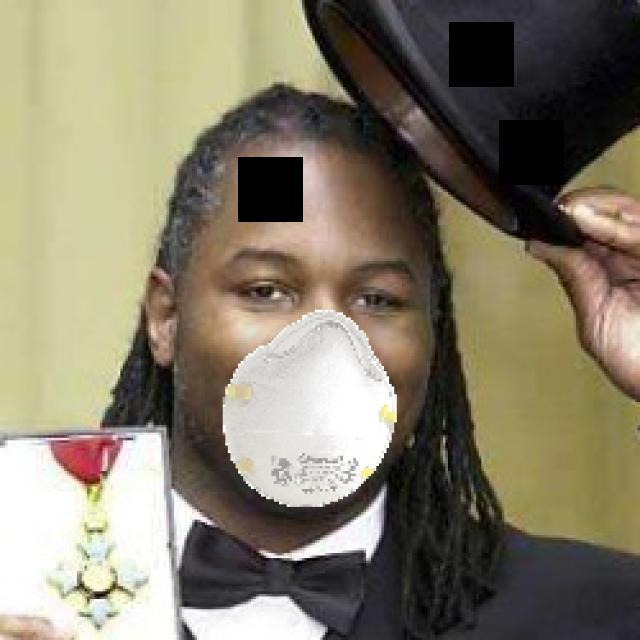n95: (171, 139, 437, 511)
